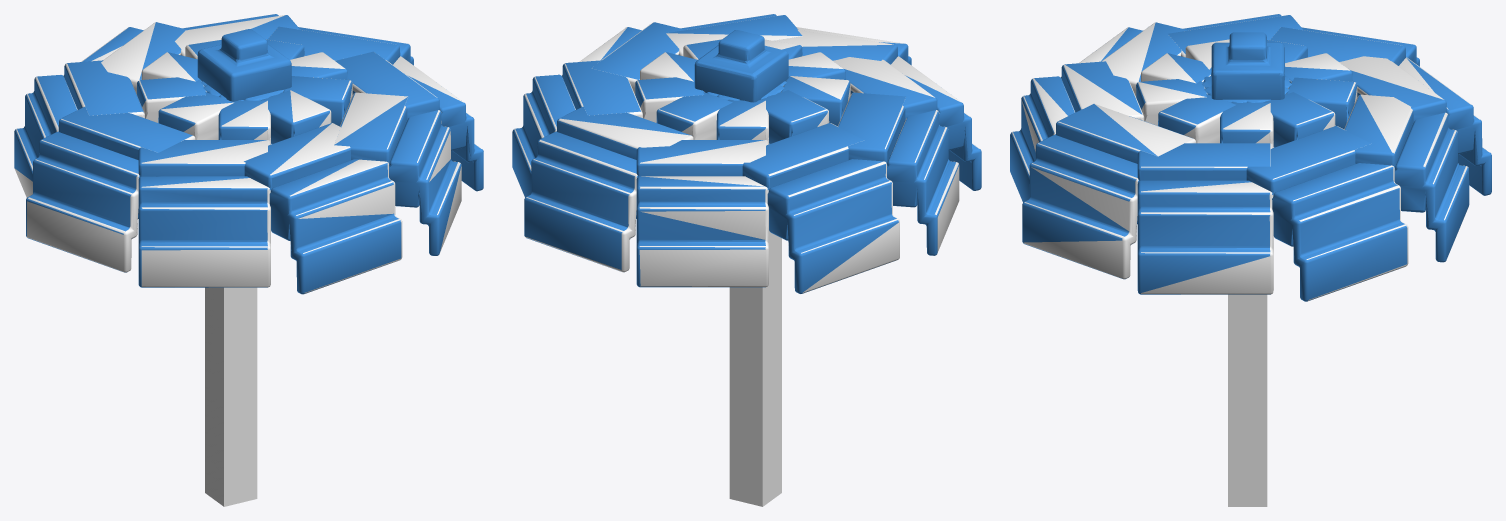
3 renders of one model, left to right at view 1: azimuth 30°, elevation 25°; view 2: azimuth 150°, elevation 25°; view 3: azimuth 270°, elevation 25°, orthographic. The views are drawn at different scales.
Visible parts, largest first — view 1: BipJamExport_parasol; view 2: BipJamExport_parasol; view 3: BipJamExport_parasol.
Part boxes in pixels (bbox=[...]): BipJamExport_parasol: bbox=[14, 14, 483, 506]; BipJamExport_parasol: bbox=[512, 14, 981, 506]; BipJamExport_parasol: bbox=[1010, 14, 1491, 506].
Size of the model in its own units: 1.31 by 1.4 by 1.31.
